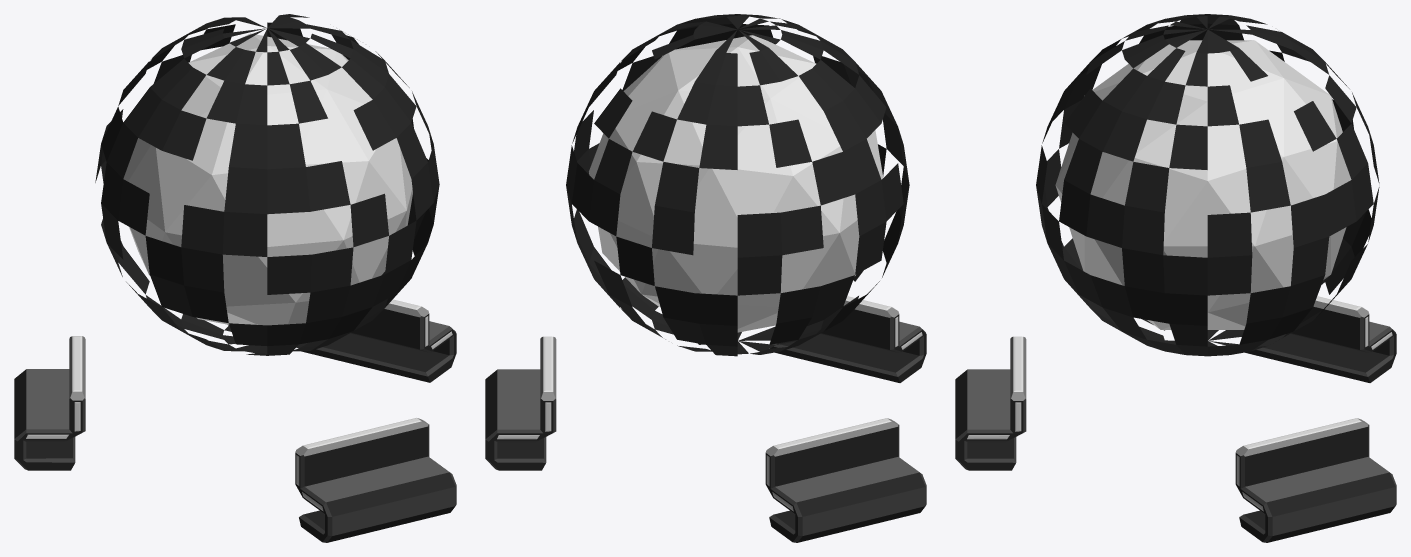
File: StatusGlobe.fbx
3 views of the same model, side by side, from view 1: azimuth 30°, elevation 25°; view 2: azimuth 150°, elevation 25°; view 3: azimuth 270°, elevation 25° (orthographic).
Parts seen in each view (by area): view 1: OuterShell, InnerGlobe, Bench; view 2: OuterShell, InnerGlobe, Bench; view 3: OuterShell, InnerGlobe, Bench.
Boxes of the visible parts, left/top/right/bottom form: OuterShell: left=95, top=14, right=439, bottom=355; InnerGlobe: left=123, top=33, right=412, bottom=325; Bench: left=14, top=299, right=456, bottom=542; OuterShell: left=566, top=14, right=909, bottom=356; InnerGlobe: left=589, top=35, right=883, bottom=332; Bench: left=485, top=296, right=926, bottom=542; OuterShell: left=1036, top=14, right=1379, bottom=356; InnerGlobe: left=1055, top=40, right=1351, bottom=329; Bench: left=955, top=296, right=1396, bottom=542.
Bounding box in the file's own units: 74.03 × 65.82 × 64.26.
